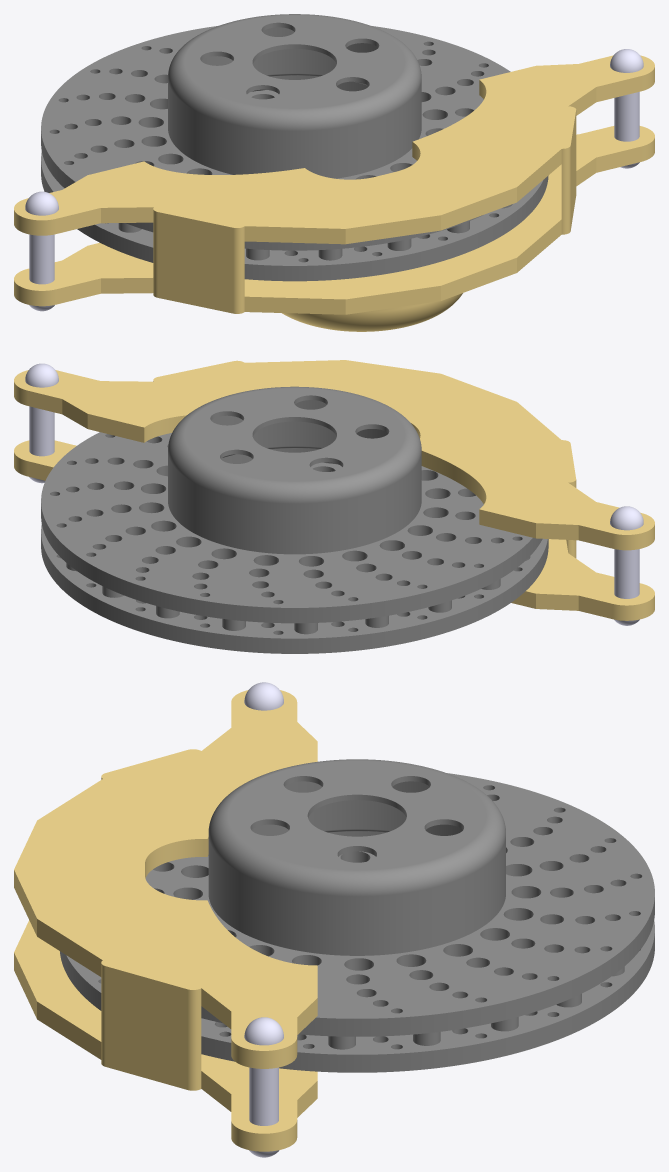
Rendered from diskbrake.glb.
The picture shows the model from 3 angles, top to bottom: view 1: azimuth 30°, elevation 25°; view 2: azimuth 150°, elevation 25°; view 3: azimuth 270°, elevation 25°; orthographic projection. The views are drawn at different scales.
Visible parts, largest first — view 1: Part2_InstanceRep, Part1_InstanceRep, Part3_InstanceRep (×2); view 2: Part1_InstanceRep, Part2_InstanceRep, Part3_InstanceRep (×2); view 3: Part1_InstanceRep, Part2_InstanceRep, Part3_InstanceRep (×2).
Part boxes in pixels (bbox=[...]): Part2_InstanceRep: bbox=[14, 55, 654, 331]; Part1_InstanceRep: bbox=[41, 14, 548, 281]; Part3_InstanceRep (×2): bbox=[25, 49, 643, 311]; Part1_InstanceRep: bbox=[41, 386, 548, 653]; Part2_InstanceRep: bbox=[14, 360, 654, 620]; Part3_InstanceRep (×2): bbox=[25, 363, 643, 625]; Part1_InstanceRep: bbox=[60, 759, 654, 1072]; Part2_InstanceRep: bbox=[14, 690, 317, 1151]; Part3_InstanceRep (×2): bbox=[244, 682, 283, 1157].
Bounding box in the file's own units: 0.4324 × 0.121 × 0.323.
